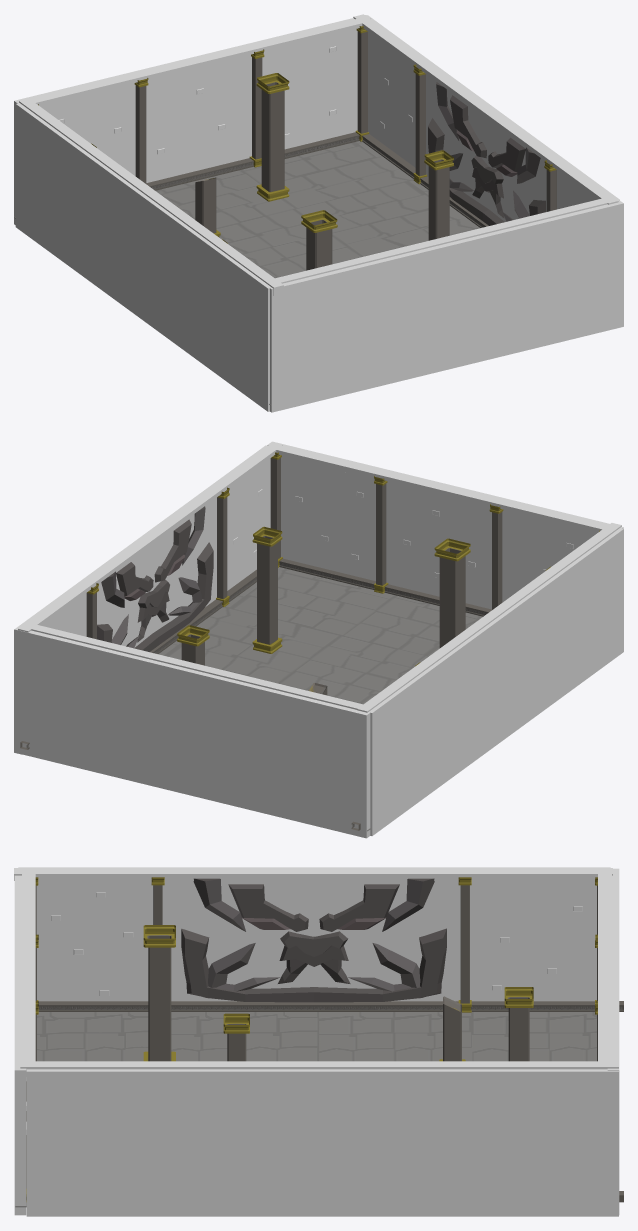
Rendered from boss03.fbx.
3 views of the same model, one above another, from view 1: azimuth 30°, elevation 25°; view 2: azimuth 150°, elevation 25°; view 3: azimuth 270°, elevation 25° (orthographic). The views are drawn at different scales.
Parts seen in each view (by area): view 1: Box124, 009, Box123, Object142, Box122, Object139, Object140; view 2: Box124, 009, Box123, Box122, Object142, Object139, Object140; view 3: Box124, 009, Box123, Box121, Object142, Object140, Object139, Object141.
Boxes of the visible parts, x1=… form: Box124: x1=14, y1=15, x2=623, y2=412; 009: x1=14, y1=141, x2=480, y2=405; Box123: x1=19, y1=14, x2=618, y2=295; Object142: x1=195, y1=73, x2=453, y2=270; Box122: x1=428, y1=82, x2=545, y2=225; Object139: x1=38, y1=26, x2=556, y2=243; Object140: x1=146, y1=132, x2=488, y2=227; Box124: x1=14, y1=441, x2=623, y2=838; 009: x1=158, y1=567, x2=482, y2=831; Box123: x1=18, y1=442, x2=621, y2=712; Box122: x1=97, y1=506, x2=213, y2=651; Object142: x1=177, y1=526, x2=470, y2=695; Object139: x1=86, y1=452, x2=599, y2=666; Object140: x1=20, y1=558, x2=491, y2=830; Box124: x1=14, y1=867, x2=619, y2=1216; 009: x1=15, y1=1012, x2=596, y2=1207; Box123: x1=14, y1=868, x2=618, y2=1076; Box121: x1=181, y1=878, x2=446, y2=1002; Object142: x1=143, y1=925, x2=533, y2=1061; Object140: x1=26, y1=1001, x2=623, y2=1202; Object139: x1=26, y1=877, x2=597, y2=1201; Object141: x1=26, y1=892, x2=582, y2=1134.
Bounding box in the file's own units: 4303 × 1448 × 5446.
